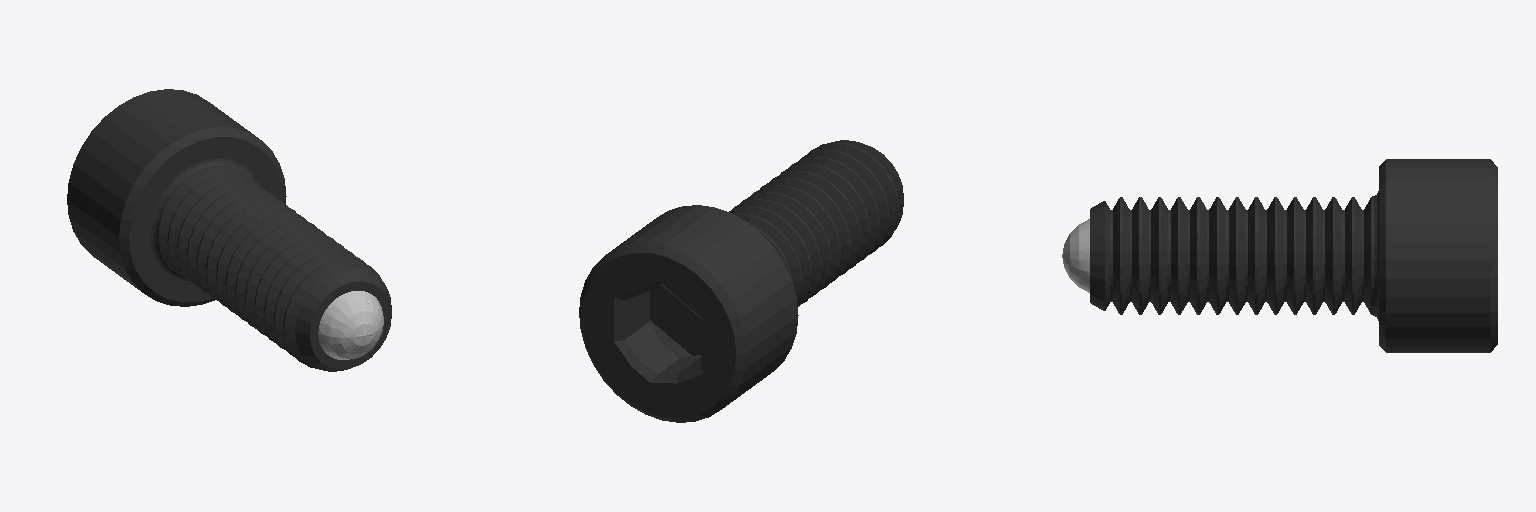
Rendered from bcr-8x20.obj.
3 views of the same model, side by side, from view 1: azimuth 30°, elevation 25°; view 2: azimuth 150°, elevation 25°; view 3: azimuth 270°, elevation 25° (orthographic).
Visible parts, largest first — view 1: bcr-8x20_1; view 2: bcr-8x20_1; view 3: bcr-8x20_1.
Part boxes in pixels (left/top/right/bottom): bcr-8x20_1: left=67, top=89, right=391, bottom=371; bcr-8x20_1: left=579, top=140, right=903, bottom=422; bcr-8x20_1: left=1062, top=159, right=1497, bottom=352.
Bounding box in the file's own units: 13 × 13 × 29.3.